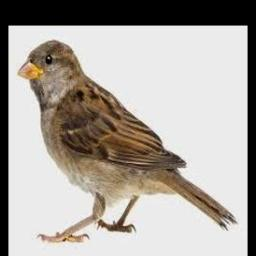Sparrow: (18, 40, 237, 242)
